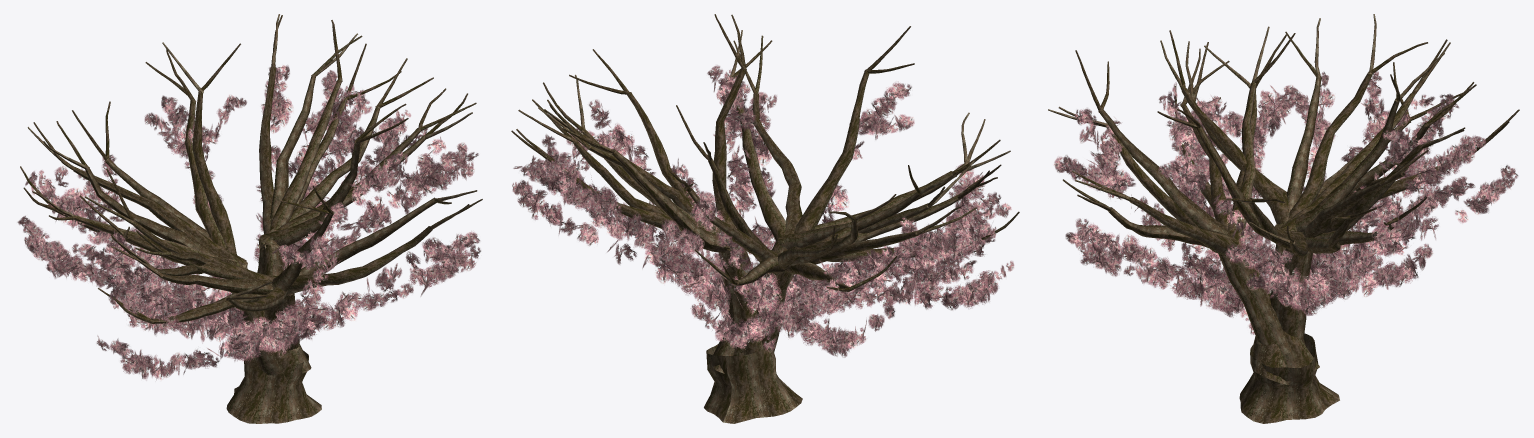
The model's file is blossom_3x_2.glb.
3 renders of one model, left to right at view 1: azimuth 30°, elevation 25°; view 2: azimuth 150°, elevation 25°; view 3: azimuth 270°, elevation 25°, orthographic. The views are drawn at different scales.
Parts seen in each view (by area): view 1: blossom; view 2: blossom; view 3: blossom.
Boxes of the visible parts, x1,y1,x2,y2 form: blossom: (17,14,482,423); blossom: (511,14,1019,423); blossom: (1048,14,1519,423).
Size of the model in its own units: 56.77 by 41.6 by 52.48.
2 materials, 2 textured.
